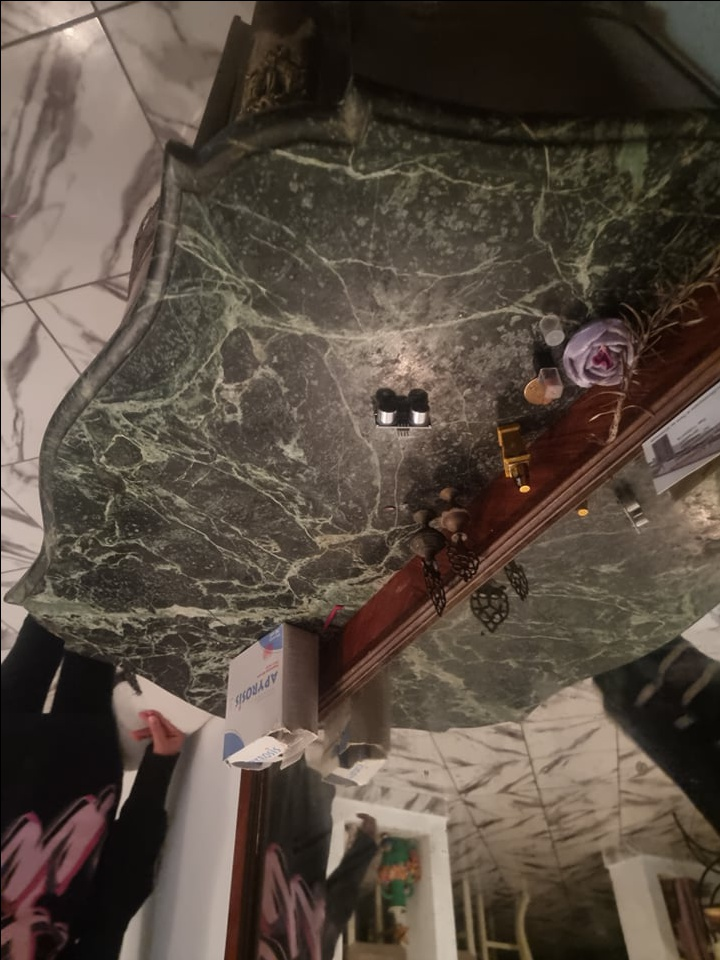SENSOR: (368, 400, 432, 433)
